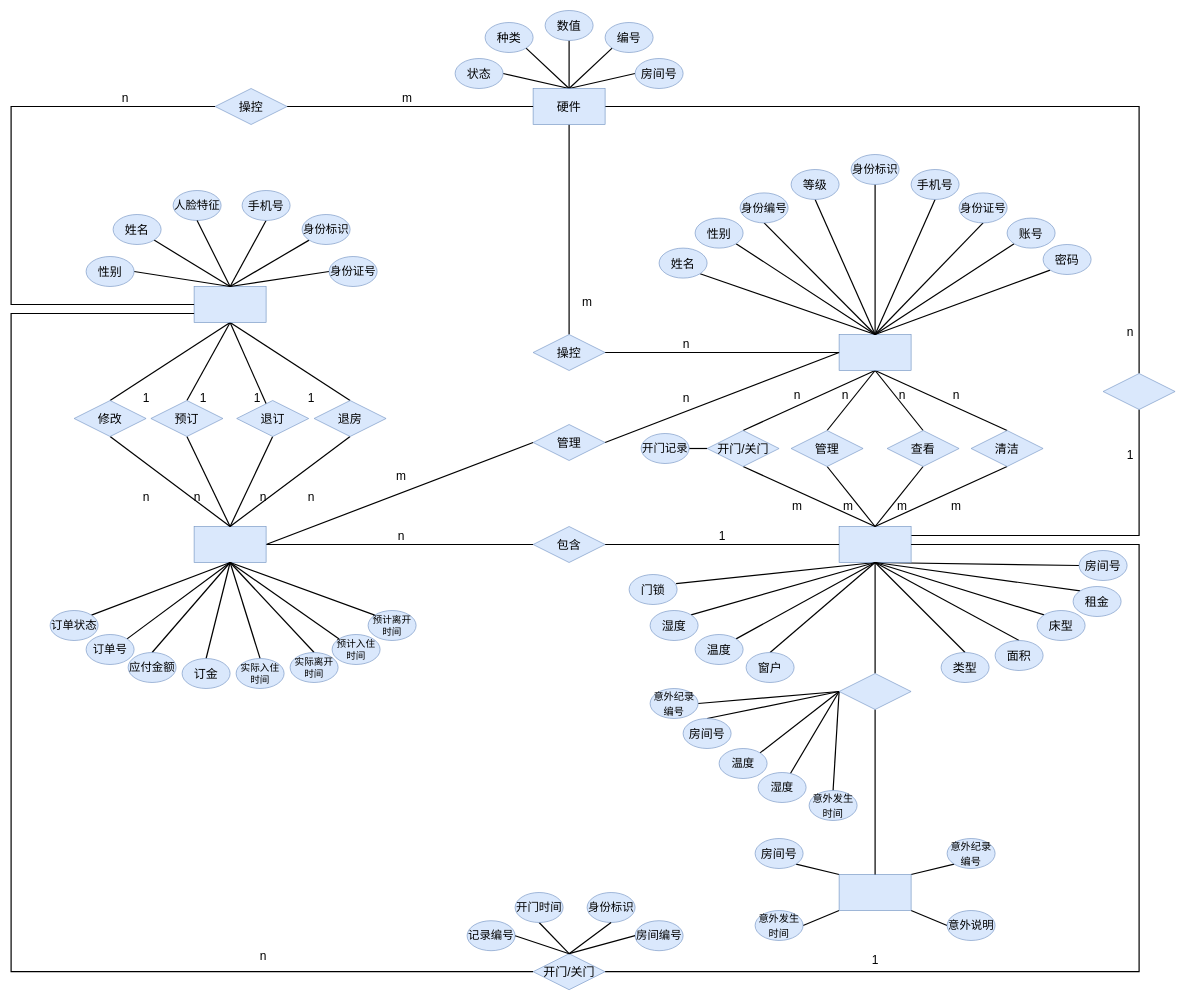
Image size: 1186x1000. Some labels were removed from this diagram. Each missing label, with the box of its shape:
客户: (194, 286, 266, 322)
意外事件: (838, 874, 911, 910)
房间: (838, 526, 911, 562)
拥有: (1102, 373, 1175, 410)
管理员: (838, 334, 911, 370)
订单: (194, 526, 266, 562)
记录: (838, 673, 911, 710)
